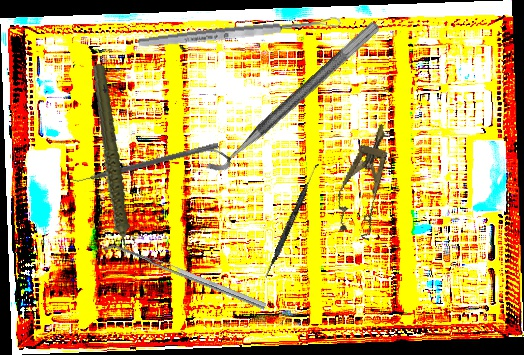Fixation Ring: (194, 6, 383, 180)
Handpiece: (70, 62, 149, 267)
Spatula Surgical: (103, 239, 267, 317), (69, 136, 219, 188), (263, 161, 320, 280)
Speculum: (328, 118, 403, 241)
Surgical Spoon: (136, 15, 343, 50)
